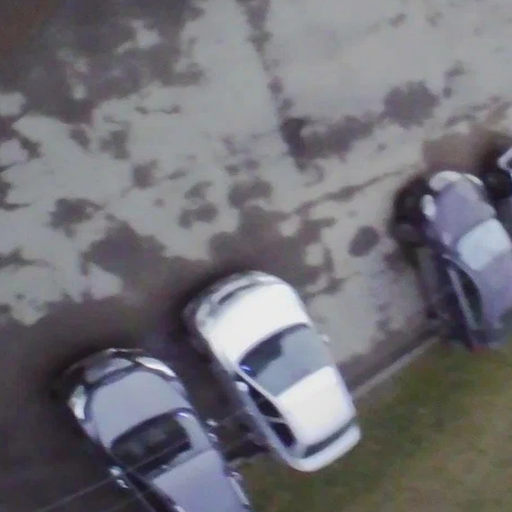Car: (179, 266, 358, 473), (52, 347, 251, 510), (397, 165, 509, 352)
